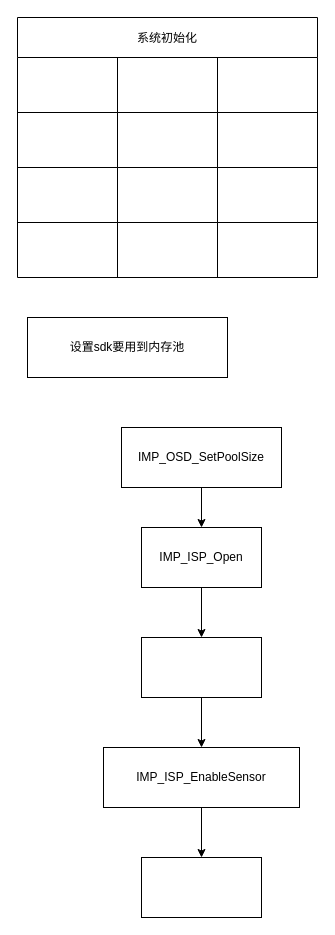
Some shapes in this 335 by 935 pixel diagram are drawn without their labels. The centre of each missing label's shape, as x and y in pixels:
"IMP_ISP_AddSensor" goes at pixel 201 667.
"IMP_System_Init" goes at pixel 201 887.
